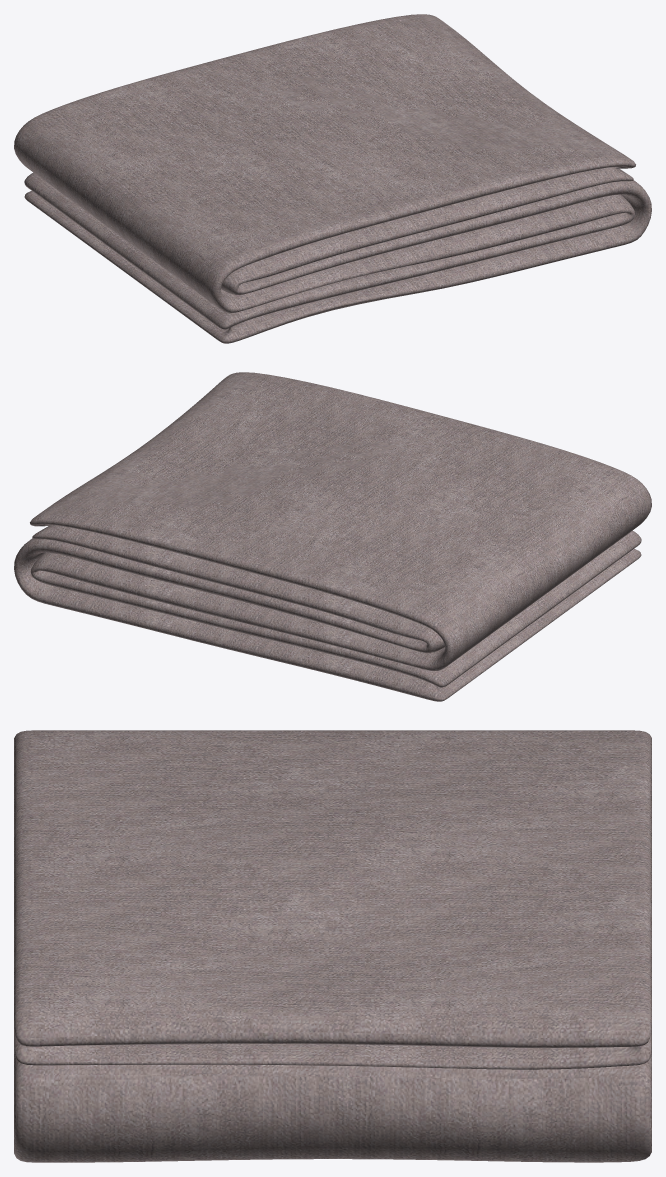
The model's file is SM_towel.glb.
The picture shows the model from 3 angles, top to bottom: view 1: azimuth 30°, elevation 25°; view 2: azimuth 150°, elevation 25°; view 3: azimuth 270°, elevation 25°; orthographic projection. The views are drawn at different scales.
Parts seen in each view (by area): view 1: SM_towel; view 2: SM_towel; view 3: SM_towel.
Boxes of the visible parts, x1=… form: SM_towel: x1=14, y1=14, x2=651, y2=343; SM_towel: x1=14, y1=372, x2=651, y2=701; SM_towel: x1=14, y1=730, x2=651, y2=1162.
Size of the model in its own units: 0.2804 by 0.0614 by 0.2233.
Materials: 1 (1 with a texture image).
